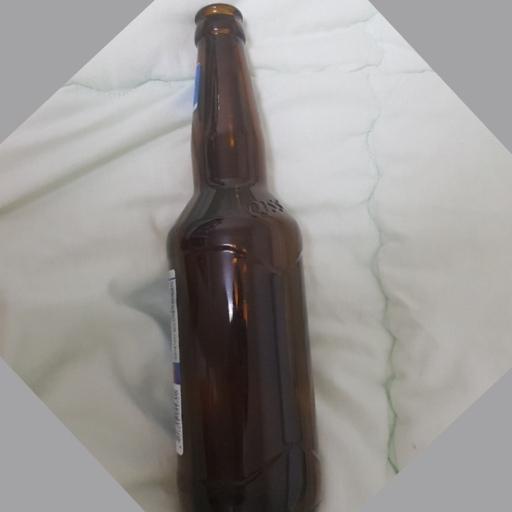Glass_1: (161, 4, 324, 512)
